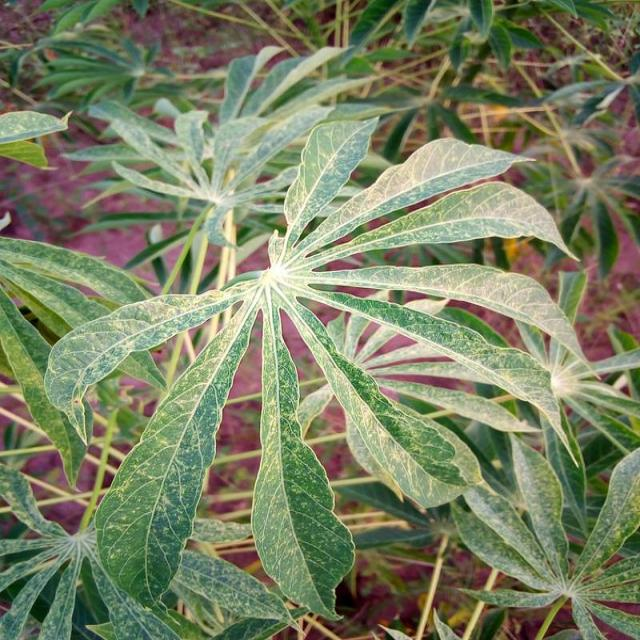cassava leaf: (41, 112, 589, 625)
